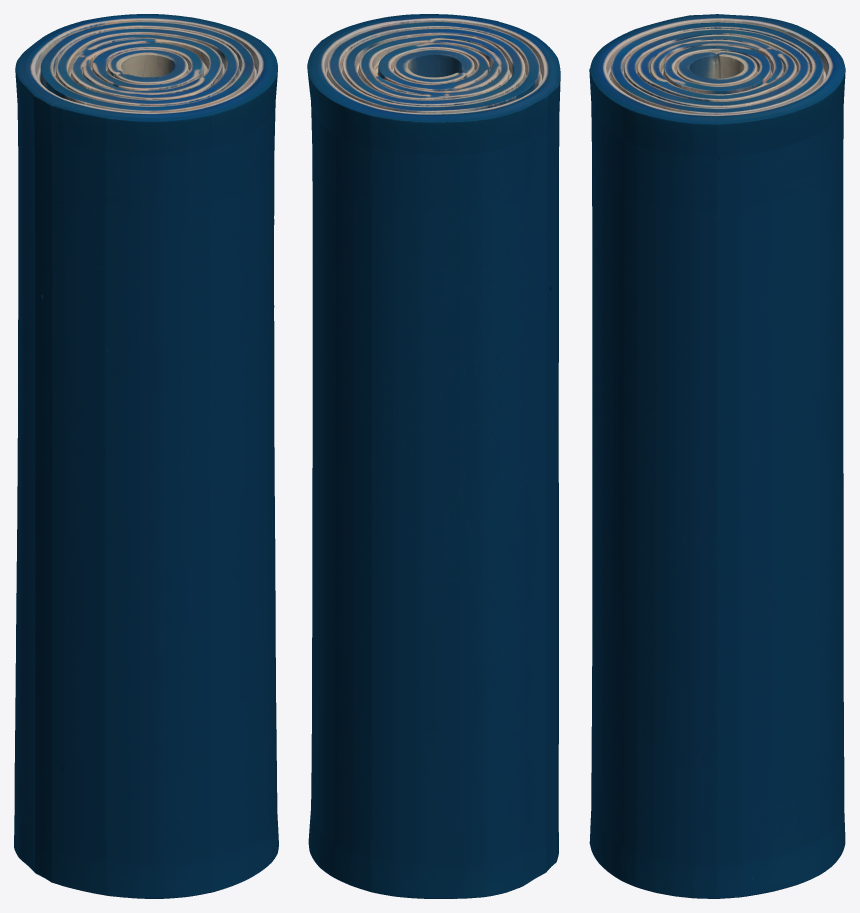
File: mat_roll__hunyuan.glb
The picture shows the model from 3 angles, left to right: view 1: azimuth 30°, elevation 25°; view 2: azimuth 150°, elevation 25°; view 3: azimuth 270°, elevation 25°; orthographic projection.
Parts seen in each view (by area): view 1: material; view 2: material; view 3: material.
Part boxes in pixels (x1,y1,x2,y2): material: (14,14,278,898); material: (307,14,560,898); material: (589,14,845,898).
Size of the model in its own units: 0.3496 by 1.15 by 0.3432.
Materials: 1 (1 with a texture image).
